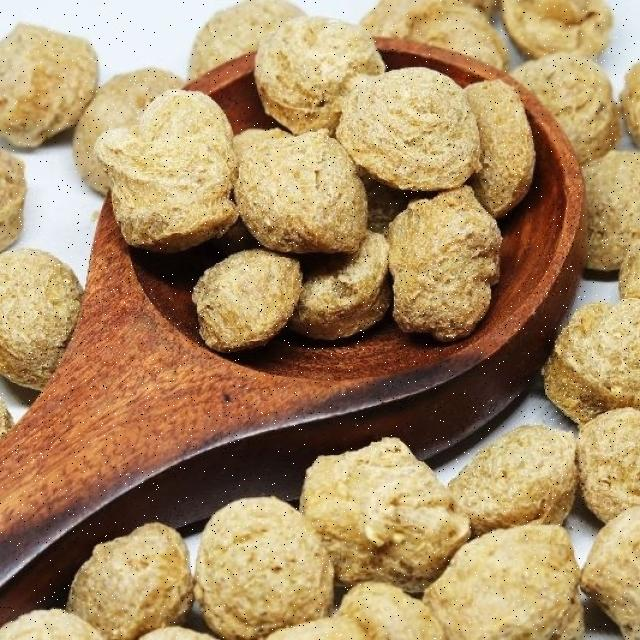Soy Chunks: (262, 428, 469, 594), (364, 188, 508, 366), (334, 54, 497, 190), (102, 99, 238, 247), (61, 516, 213, 640), (559, 282, 640, 415)
